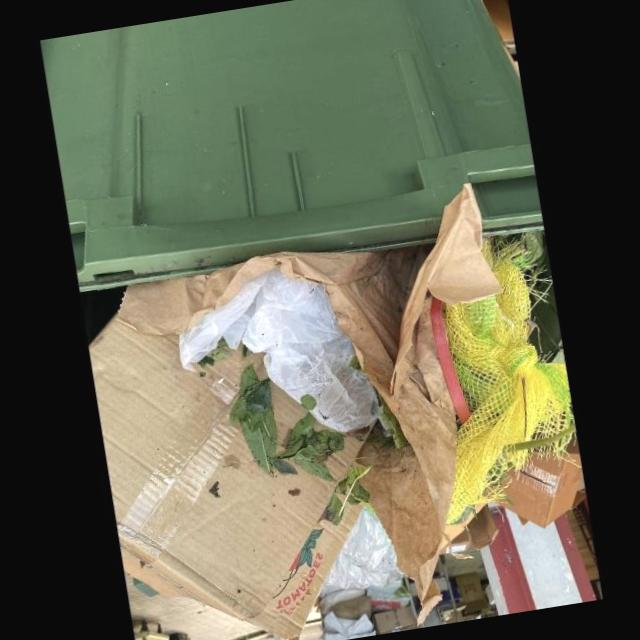carton: (88, 313, 372, 640), (491, 451, 583, 527), (469, 503, 499, 554)
giay: (183, 184, 506, 629)
tui_ni_long: (172, 273, 378, 434), (321, 501, 397, 592)
vo_rau_cu: (227, 366, 343, 477)
